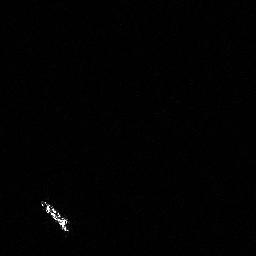ship: (38, 197, 74, 234)
